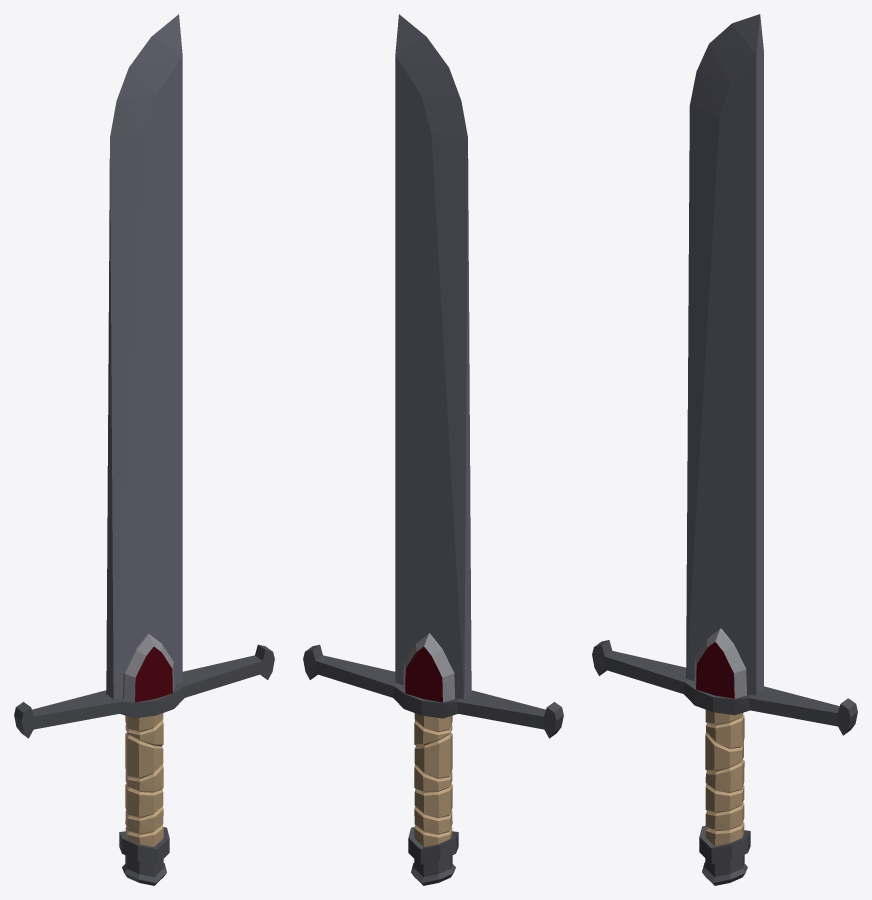
The model's file is _sword_5.fbx.
The picture shows the model from 3 angles, left to right: view 1: azimuth 30°, elevation 25°; view 2: azimuth 150°, elevation 25°; view 3: azimuth 330°, elevation 25°; orthographic projection.
Visible parts, largest first — view 1: sword_5; view 2: sword_5; view 3: sword_5.
Boxes of the visible parts, x1,y1,x2,y2 form: sword_5: [14, 14, 274, 885]; sword_5: [303, 14, 563, 885]; sword_5: [592, 14, 857, 885].
Bounding box in the file's own units: 27.11 × 87.59 × 4.81.
